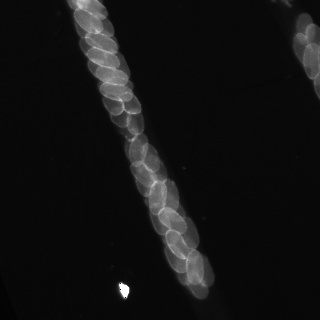embryo: (292, 33, 316, 67), (158, 207, 187, 234), (105, 50, 131, 80), (130, 161, 158, 188), (177, 217, 200, 249), (164, 230, 190, 258), (74, 8, 103, 33), (164, 244, 188, 274), (86, 48, 120, 69), (93, 65, 128, 85), (85, 32, 118, 52), (79, 36, 104, 62), (150, 203, 170, 235), (149, 180, 167, 215), (129, 133, 148, 166), (89, 12, 115, 36), (99, 83, 133, 101), (162, 179, 180, 213), (187, 249, 204, 285), (147, 153, 167, 183), (136, 166, 155, 197), (196, 255, 214, 287), (141, 142, 160, 172), (188, 272, 209, 299), (297, 13, 315, 43), (87, 59, 114, 79), (125, 139, 145, 165), (120, 92, 142, 114), (103, 92, 125, 114), (110, 108, 133, 128), (122, 116, 139, 143), (127, 109, 145, 134), (177, 256, 192, 285), (75, 15, 92, 38)
